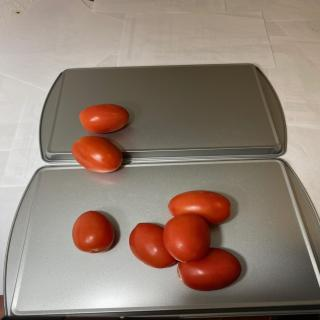Tomato: (176, 248, 242, 291), (163, 213, 211, 263), (168, 190, 231, 226), (129, 222, 177, 268), (71, 136, 123, 173), (72, 210, 115, 253), (79, 103, 129, 134)
